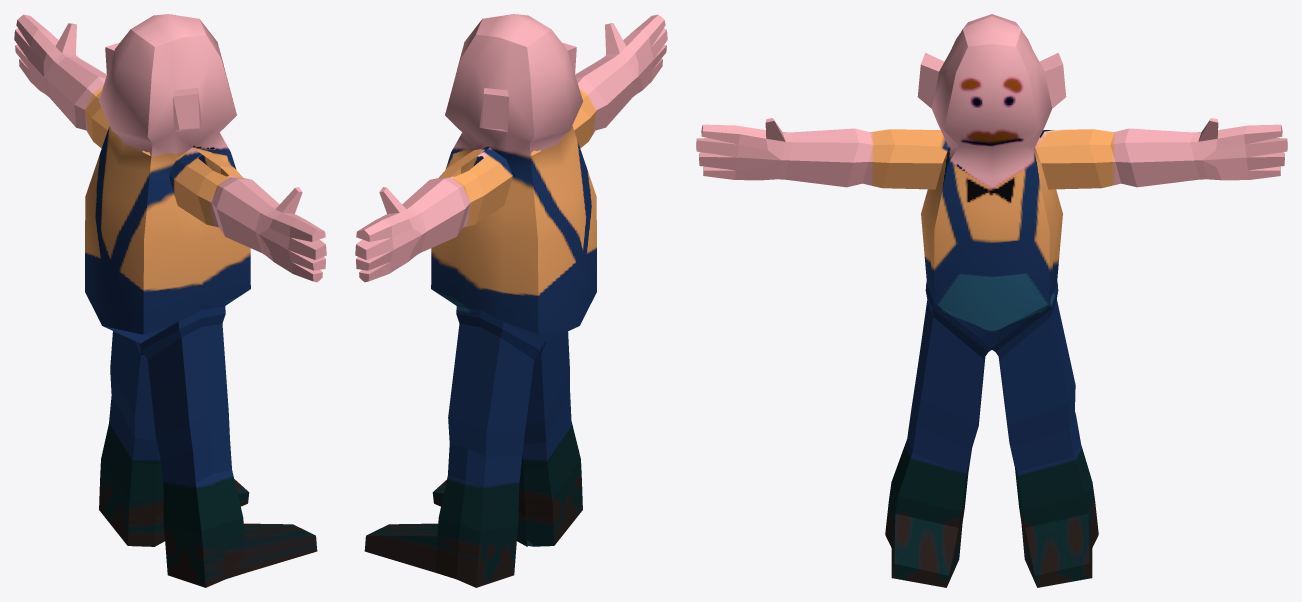
File: characterLandmand04.FBX
3 renders of one model, left to right at view 1: azimuth 30°, elevation 25°; view 2: azimuth 150°, elevation 25°; view 3: azimuth 270°, elevation 25°, orthographic.
Visible parts, largest first — view 1: Box001; view 2: Box001; view 3: Box001.
Boxes of the visible parts, x1=… form: Box001: x1=14, y1=14, x2=326, y2=587; Box001: x1=355, y1=14, x2=667, y2=587; Box001: x1=696, y1=14, x2=1287, y2=587.
Bounding box in the file's own units: 63.57 × 196 × 196.
Materials: 1 (1 with a texture image).
